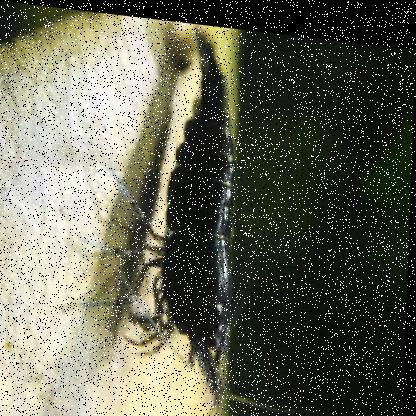shrimp: (96, 10, 243, 405)
